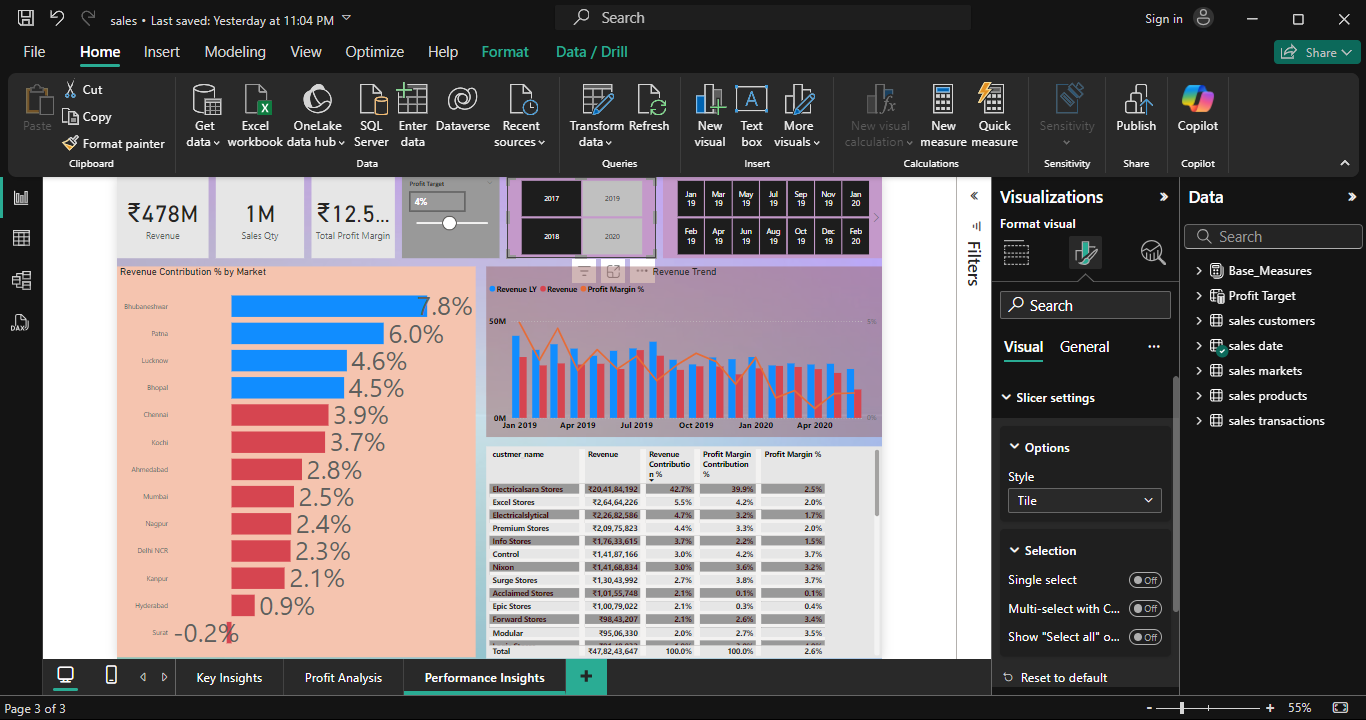

This screenshot's page, from the dashboard's own definition file:
{"tool":"powerbi","page":{"name":"Performance Insights","canvas":[1350,850],"ordinal":2},"visuals":[{"type":"card","fields":{"Values":["BaseMeasures (2).Revenue"]},"box":[0,0,161.4,143.1],"z":0},{"type":"card","fields":{"Values":["BaseMeasures (2).Sales Qty"]},"box":[174.3,0,155.9,143.1],"z":1000},{"type":"slicer","fields":{"Values":["sales date.year"]},"box":[688,0,262.3,143.1],"z":2000},{"type":"slicer","fields":{"Values":["sales date.cy_date"]},"box":[963.1,0,387.1,143.1],"z":3000},{"type":"tableEx","title":"Top 5 Customers","fields":{"Values":["sales customers.custmer_name","BaseMeasures (2).Revenue","BaseMeasures (2).Revenue Contribution %","BaseMeasures (2).Profit Margin Contribution %","BaseMeasures (2).Profit Margin %"]},"box":[651.3,475.1,699,374.2],"z":4000},{"type":"lineClusteredColumnComboChart","title":"Revenue Trend","fields":{"Category":["sales date.cy_date"],"Y":["BaseMeasures (2).Revenue LY","BaseMeasures (2).Revenue"],"Y2":["BaseMeasures (2).Profit Margin %"]},"box":[651.3,157.8,699,300.9],"z":5000},{"type":"card","fields":{"Values":["BaseMeasures (2).Total Profit Margin"]},"box":[343.1,0,146.8,143.1],"z":6000},{"type":"barChart","title":"Revenue Contribution % by Market","fields":{"Y":["BaseMeasures (2).Profit Margin %"],"Category":["sales markets.zone","sales markets.markets_name","sales customers.custmer_name","sales products.product_code"]},"box":[0,157.8,632.9,689.8],"z":7000},{"type":"slicer","fields":{"Values":["Profit Target.Profit Target"]},"box":[502.7,0,172.4,143.1],"z":8000}]}

Visuals, with their boxes on the page's 1350x850 design canvas (x1, y1, x2, y2). These are canvas units, not pixel positions in the 1366x720 screenshot, which may show the page scaled, cropped or inside an application window:
card - BaseMeasures (2).Revenue: 0, 0, 161, 143
card - BaseMeasures (2).Sales Qty: 174, 0, 330, 143
slicer - sales date.year: 688, 0, 950, 143
slicer - sales date.cy_date: 963, 0, 1350, 143
"Top 5 Customers" tableEx: 651, 475, 1350, 849
"Revenue Trend" lineClusteredColumnComboChart: 651, 158, 1350, 459
card - BaseMeasures (2).Total Profit Margin: 343, 0, 490, 143
"Revenue Contribution % by Market" barChart: 0, 158, 633, 848
slicer - Profit Target.Profit Target: 503, 0, 675, 143
